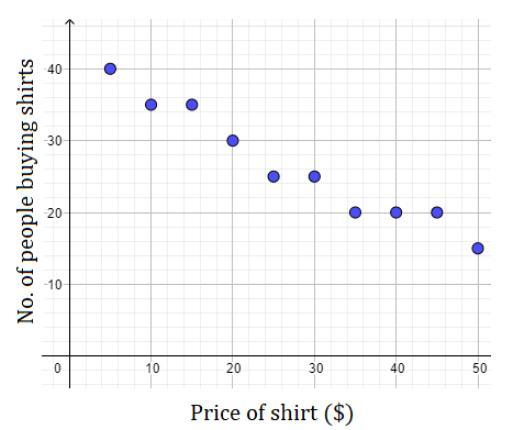axis: (40, 351, 494, 359), (65, 12, 74, 392)
point: (220, 129, 246, 153), (262, 166, 287, 189), (140, 94, 166, 115), (302, 167, 329, 187), (344, 203, 368, 225), (385, 202, 410, 223), (98, 59, 122, 80), (426, 202, 449, 222), (183, 95, 204, 116), (468, 237, 488, 258)
